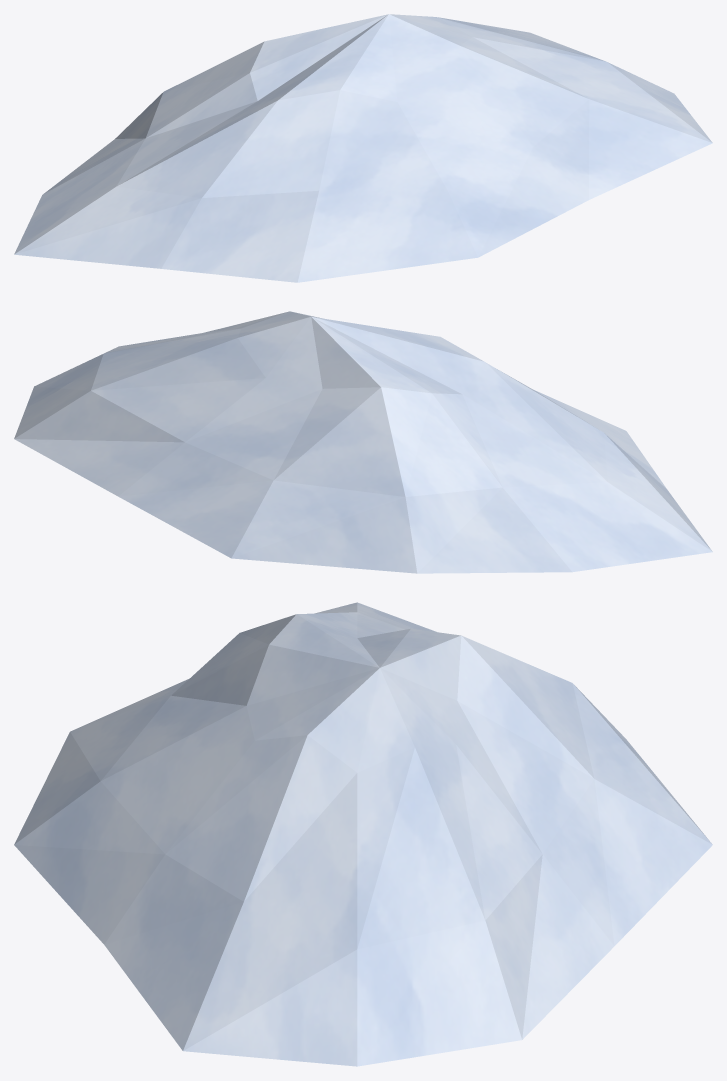
File: drift_large.glb
3 views of the same model, one above another, from view 1: azimuth 30°, elevation 25°; view 2: azimuth 150°, elevation 25°; view 3: azimuth 270°, elevation 25° (orthographic). The views are drawn at different scales.
Visible parts, largest first — view 1: winter_drift_large; view 2: winter_drift_large; view 3: winter_drift_large.
Boxes of the visible parts, box(x1,y1,x2,y2) form: winter_drift_large: box(14, 14, 712, 282); winter_drift_large: box(14, 311, 712, 573); winter_drift_large: box(14, 602, 712, 1066).
Bounding box in the file's own units: 4.4 × 0.9 × 2.8.
1 material, 1 textured.
